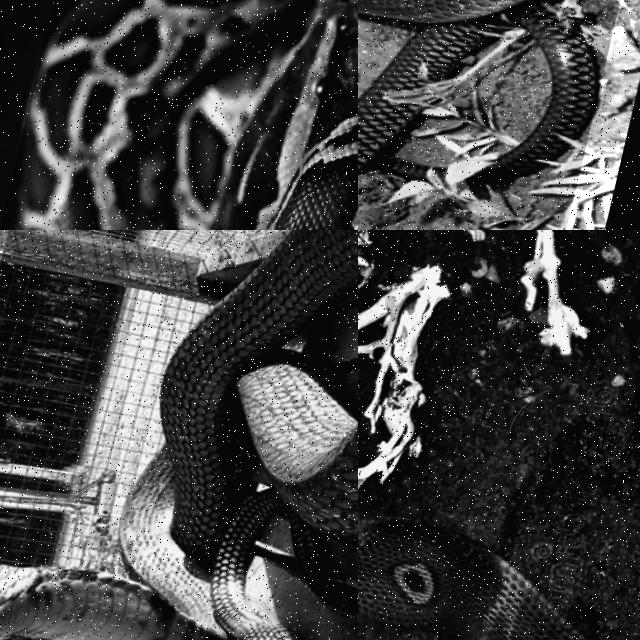Naja kaouthia: (358, 0, 597, 180), (358, 519, 591, 639)
Ophiophagus hannah: (0, 230, 357, 639)
Python bivittatus: (20, 0, 357, 229)
